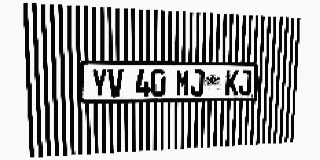0: (151, 69, 166, 97)
4: (136, 69, 150, 97)
J: (190, 69, 204, 96), (239, 70, 252, 95)
K: (225, 70, 239, 96)
M: (176, 69, 190, 96)
V: (108, 69, 123, 97)
Y: (91, 69, 107, 98)
